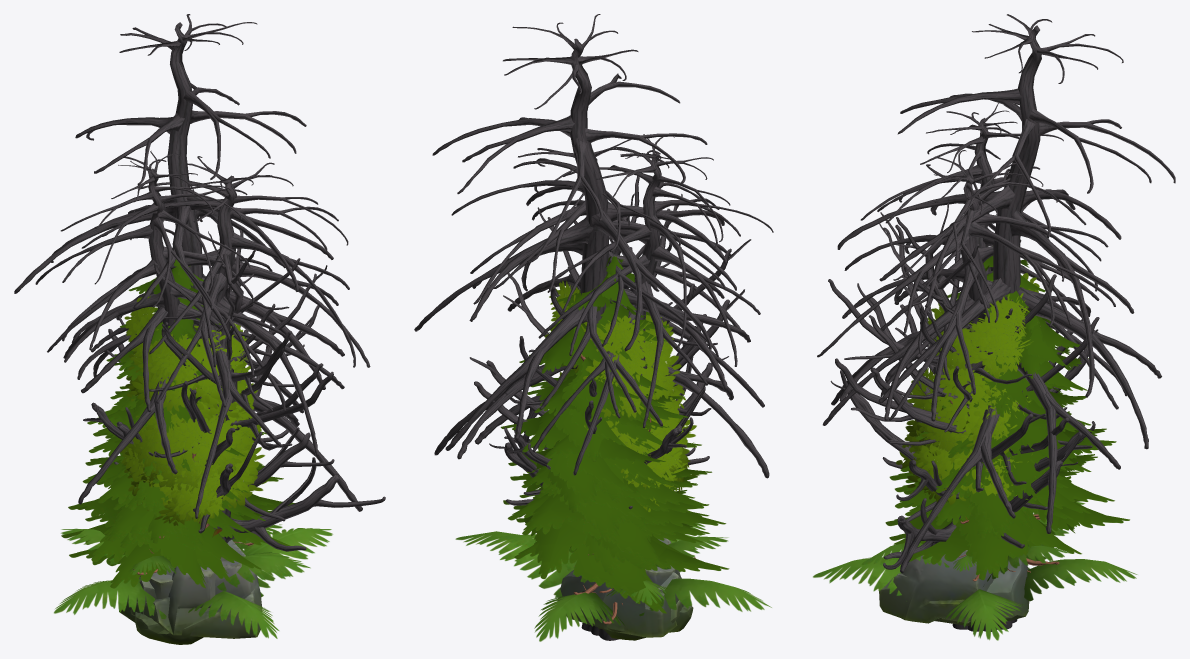
File: nature.glb
The picture shows the model from 3 angles, left to right: view 1: azimuth 30°, elevation 25°; view 2: azimuth 150°, elevation 25°; view 3: azimuth 270°, elevation 25°; orthographic projection. The views are drawn at different scales.
Visible parts, largest first — view 1: DeadTree_5, DeadTree_4, DeadTree_3, DeadTree_2, Fern_1, Pine_4, CommonTree_3, Pine_2, Pine_5, DeadTree_1, CommonTree_1, Rock_Medium_3 (+5 smaller); view 2: DeadTree_5, Pine_5, Pine_4, DeadTree_3, DeadTree_4, Fern_1, DeadTree_2, CommonTree_3, Rock_Medium_2, DeadTree_1, Pine_2, CommonTree_4 (+5 smaller); view 3: DeadTree_5, DeadTree_4, Pine_5, DeadTree_2, Fern_1, DeadTree_3, DeadTree_1, Pine_4, Rock_Medium_3, CommonTree_4, CommonTree_3, Pine_2 (+4 smaller).
Part boxes in pixels (box(x1,y1,x2,y2)): DeadTree_5: box(14, 14, 362, 511); DeadTree_4: box(62, 156, 370, 518); DeadTree_3: box(35, 150, 285, 411); DeadTree_2: box(116, 229, 385, 551); Fern_1: box(54, 524, 332, 638); Pine_4: box(68, 259, 266, 575); CommonTree_3: box(124, 308, 261, 495); Pine_2: box(69, 397, 273, 588); Pine_5: box(61, 350, 294, 581); DeadTree_1: box(83, 285, 334, 521); CommonTree_1: box(123, 396, 267, 525); Rock_Medium_3: box(135, 540, 262, 644); DeadTree_5: box(414, 14, 769, 635); Pine_5: box(500, 323, 715, 602); Pine_4: box(507, 256, 726, 624); DeadTree_3: box(526, 134, 773, 452); DeadTree_4: box(451, 139, 764, 640); Fern_1: box(455, 523, 771, 641); DeadTree_2: box(469, 176, 751, 505); CommonTree_3: box(562, 286, 685, 487); Rock_Medium_2: box(557, 565, 677, 637); DeadTree_1: box(474, 247, 706, 509); Pine_2: box(514, 404, 729, 613); CommonTree_4: box(544, 280, 673, 431); DeadTree_5: box(837, 14, 1175, 631); DeadTree_4: box(817, 150, 1126, 631); Pine_5: box(889, 312, 1129, 580); DeadTree_2: box(828, 199, 1082, 569); Fern_1: box(813, 499, 1137, 640); DeadTree_3: box(860, 103, 1118, 630); DeadTree_1: box(868, 270, 1099, 521); Pine_4: box(889, 246, 1097, 581); Rock_Medium_3: box(879, 550, 993, 623); CommonTree_4: box(927, 272, 1039, 404); CommonTree_3: box(904, 293, 1030, 492); Pine_2: box(885, 412, 1081, 577).
Size of the model in its own units: 9.05 by 16.44 by 9.19.
Materials: 10 (10 with a texture image).
